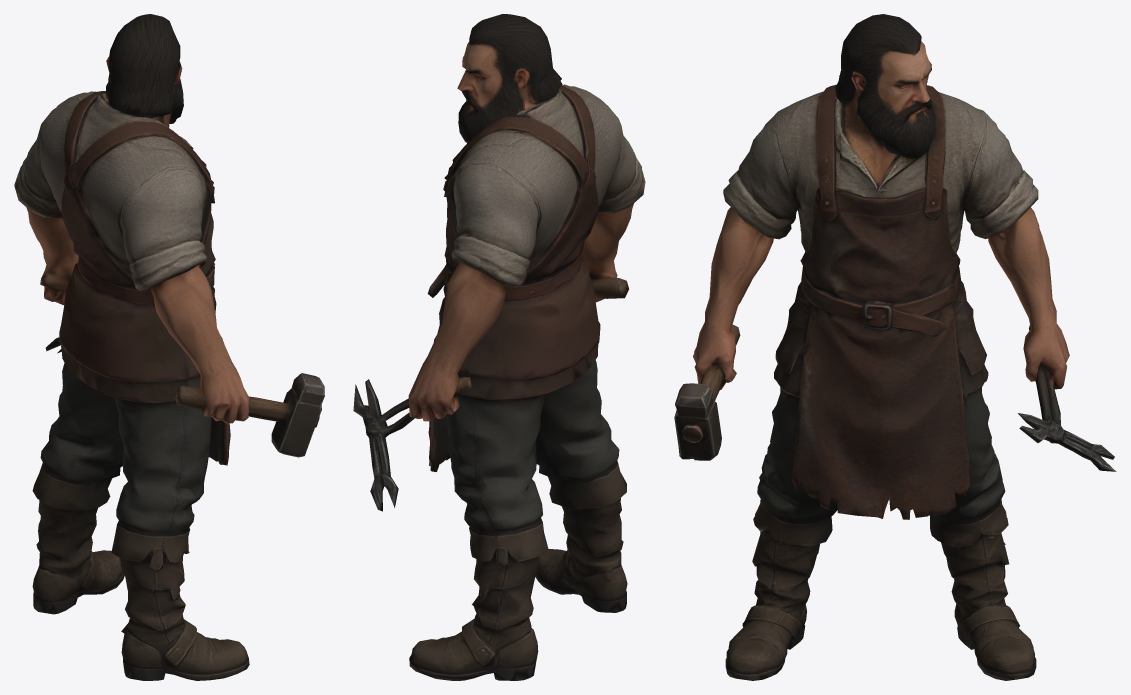
File: black.gltf
3 renders of one model, left to right at view 1: azimuth 30°, elevation 25°; view 2: azimuth 150°, elevation 25°; view 3: azimuth 270°, elevation 25°, orthographic. The views are drawn at different scales.
Parts seen in each view (by area): view 1: tripo_node_ca344ee5-1185-4a02-953b-566093fbe065; view 2: tripo_node_ca344ee5-1185-4a02-953b-566093fbe065; view 3: tripo_node_ca344ee5-1185-4a02-953b-566093fbe065.
Part boxes in pixels (x1,y1,x2,y2): tripo_node_ca344ee5-1185-4a02-953b-566093fbe065: (14,14,324,680); tripo_node_ca344ee5-1185-4a02-953b-566093fbe065: (353,14,645,680); tripo_node_ca344ee5-1185-4a02-953b-566093fbe065: (674,14,1116,680).
Bounding box in the file's own units: 0.2941 × 1 × 0.6185.
Materials: 1 (1 with a texture image).
